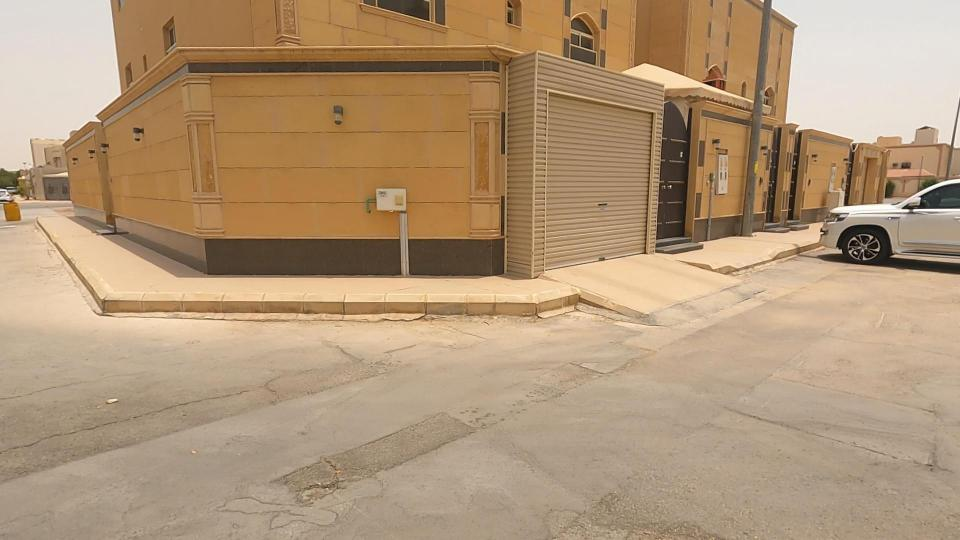POTHOLES: (196, 405, 427, 540)
